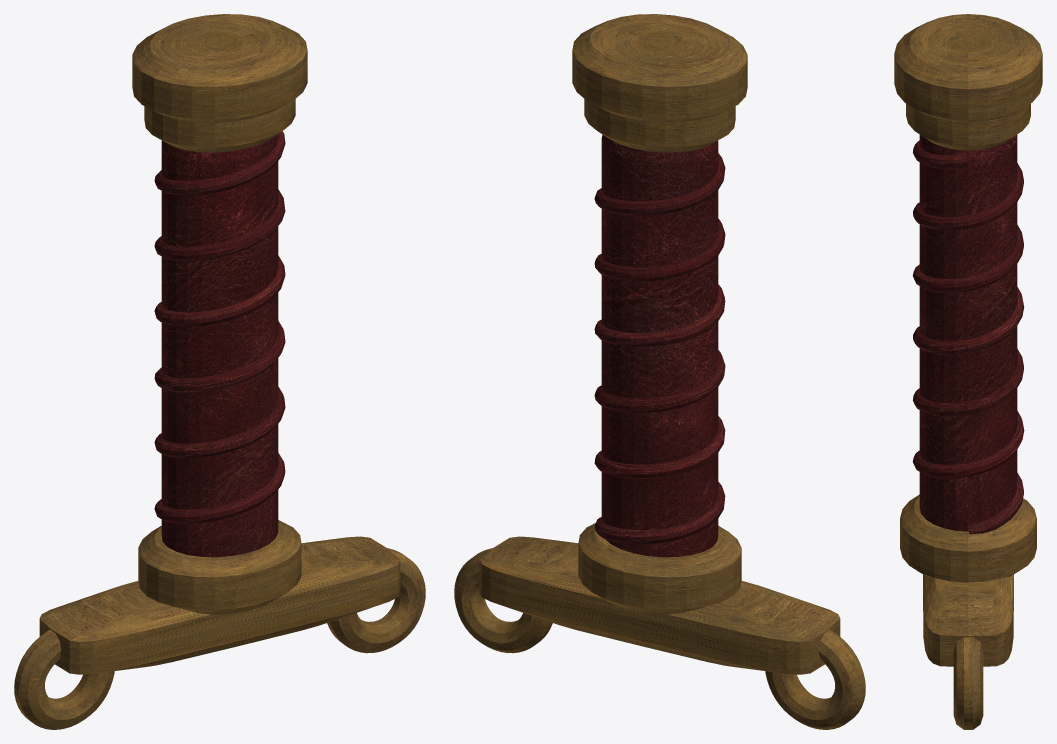
Rendered from hilt.obj.
The picture shows the model from 3 angles, left to right: view 1: azimuth 30°, elevation 25°; view 2: azimuth 150°, elevation 25°; view 3: azimuth 270°, elevation 25°; orthographic projection. The views are drawn at different scales.
Parts seen in each view (by area): view 1: grip, guard, pommel, wrap, heel, scroll_left, collar, scroll_right; view 2: grip, guard, pommel, wrap, heel, scroll_left, collar, scroll_right; view 3: grip, pommel, wrap, heel, guard, collar, scroll_right.
Part boxes in pixels (box(x1,y1,x2,y2)): grip: box(161, 134, 278, 557); guard: box(39, 536, 400, 674); pommel: box(132, 14, 307, 122); wrap: box(154, 131, 285, 523); heel: box(138, 520, 301, 614); scroll_left: box(14, 629, 114, 729); collar: box(144, 99, 295, 152); scroll_right: box(327, 548, 425, 653); grip: box(601, 134, 718, 557); guard: box(479, 536, 840, 674); pommel: box(572, 14, 747, 122); wrap: box(594, 153, 725, 544); heel: box(578, 523, 741, 614); scroll_left: box(765, 629, 865, 729); collar: box(584, 99, 735, 152); scroll_right: box(454, 548, 552, 653); grip: box(919, 135, 1017, 531); pommel: box(894, 14, 1042, 122); wrap: box(912, 140, 1024, 534); heel: box(900, 494, 1036, 582); guard: box(923, 574, 1013, 666); collar: box(906, 103, 1030, 150); scroll_right: box(953, 637, 983, 729).
Bounding box in the file's own units: 73.05 × 111 × 24.43.
Materials: 2 (2 with a texture image).
